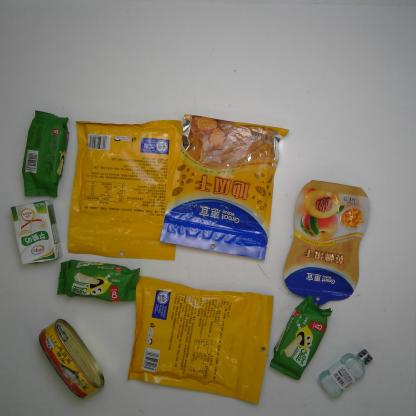Canned Food: (38, 318, 106, 401)
Dessert: (269, 292, 334, 380), (21, 109, 69, 200), (55, 259, 141, 302)
Dried Fruit: (158, 112, 290, 264), (126, 275, 274, 407), (66, 118, 182, 262), (283, 179, 371, 305)
Milk: (9, 198, 64, 266)
Personal Hygiene: (317, 348, 373, 400)
